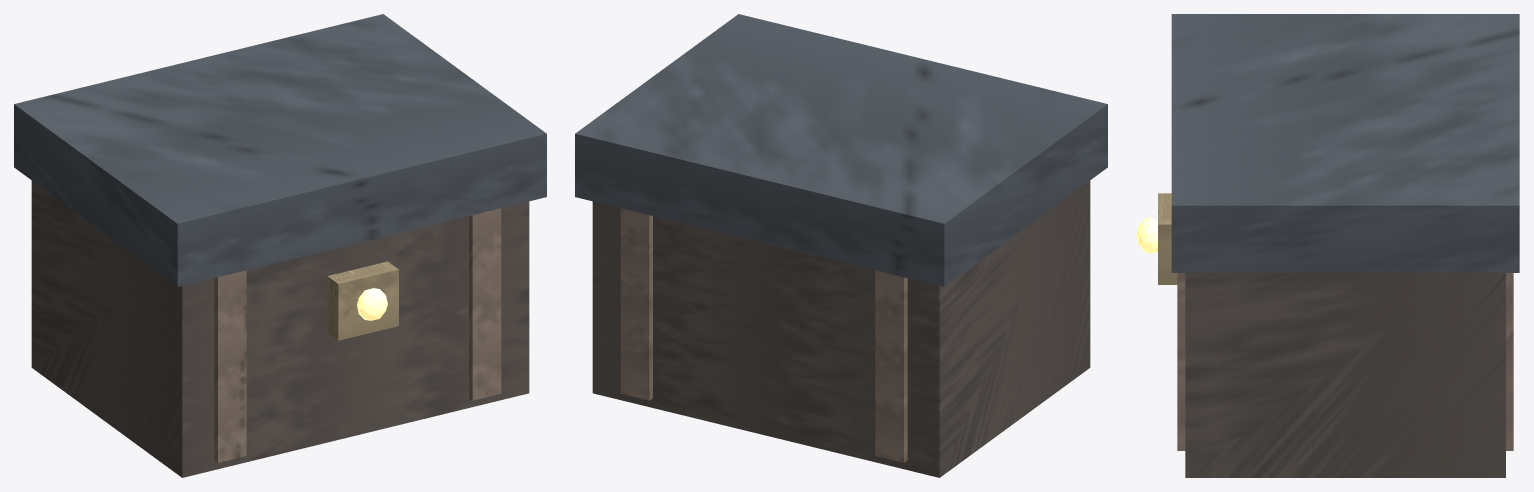
File: chest.glb
The picture shows the model from 3 angles, left to right: view 1: azimuth 30°, elevation 25°; view 2: azimuth 150°, elevation 25°; view 3: azimuth 270°, elevation 25°; orthographic projection. The views are drawn at different scales.
Visible parts, largest first — view 1: iron, wood, bronze, gold, glowgold; view 2: iron, wood, bronze; view 3: iron, wood, bronze, gold, glowgold.
Part boxes in pixels (x1,y1,x2,y2): iron: (14, 14, 546, 286); wood: (31, 180, 529, 477); bronze: (214, 208, 501, 462); gold: (327, 261, 398, 340); glowgold: (357, 288, 387, 320); iron: (575, 14, 1107, 286); wood: (592, 180, 1090, 477); bronze: (620, 208, 907, 462); iron: (1171, 14, 1519, 272); wood: (1185, 273, 1505, 477); bronze: (1177, 273, 1513, 450); gold: (1158, 193, 1177, 284); glowgold: (1136, 217, 1157, 253).
Size of the model in its own units: 1.16 by 0.785 by 0.98.
Materials: 5 (5 with a texture image).
